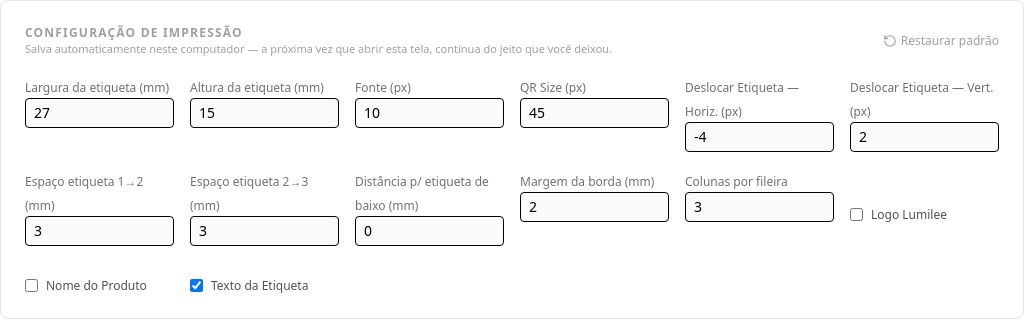
Test: LabelPrintConfigPanel › limita o deslocamento a metade da largura física (px) mesmo se a pessoa digitar mais
This screenshot has width=1024, height=336.
Replace the text in the field labelled "Deslocar Etiqueta — Horiz. (px)" with "-1000" at (760, 136), box left=685, top=122, right=834, bottom=152
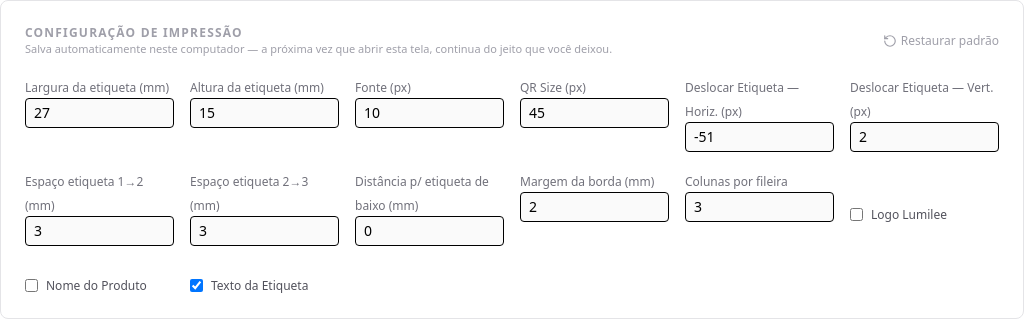
Now the field labelled "Deslocar Etiqueta — Horiz. (px)" holds "-51", box left=685, top=122, right=834, bottom=152
